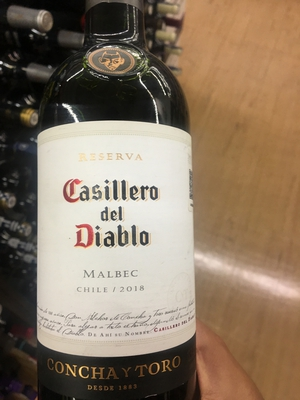casillero del diablo malbec: (29, 14, 210, 400)
